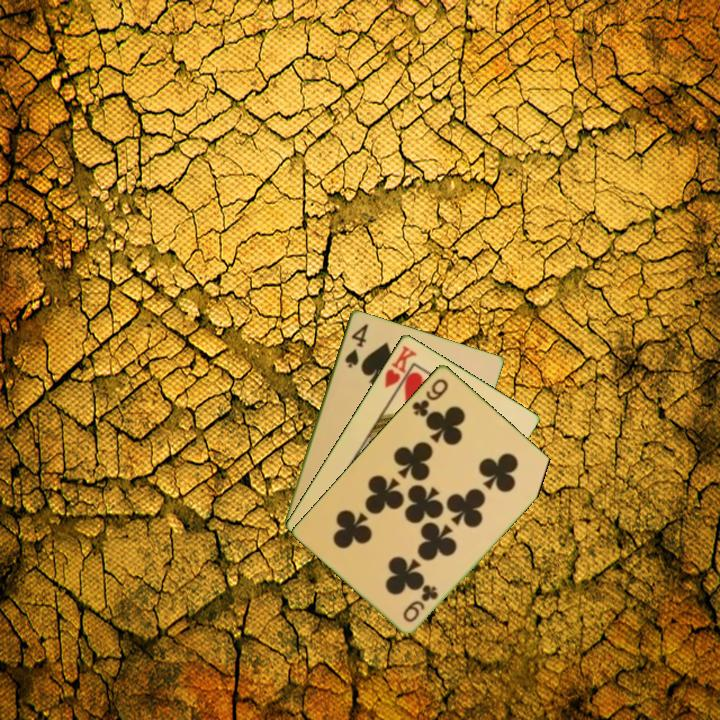4s: (341, 319, 371, 370)
9c: (408, 374, 451, 419), (399, 581, 441, 625)
Kh: (381, 341, 419, 398)
